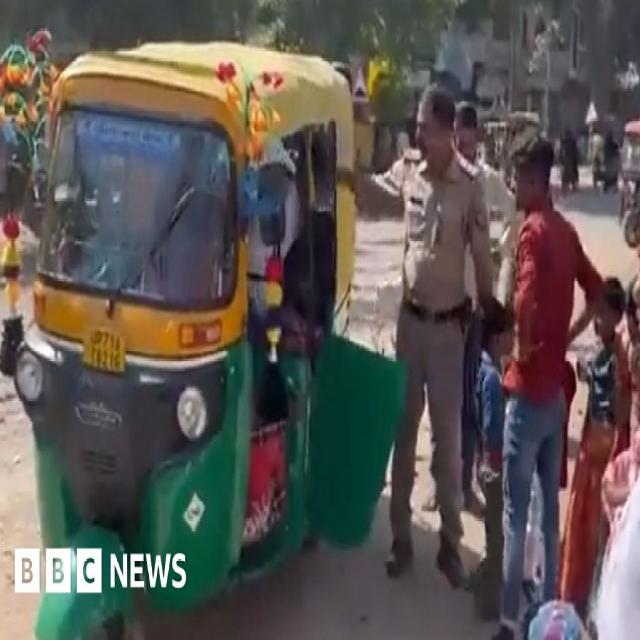autorikshaw: (21, 42, 356, 620)
